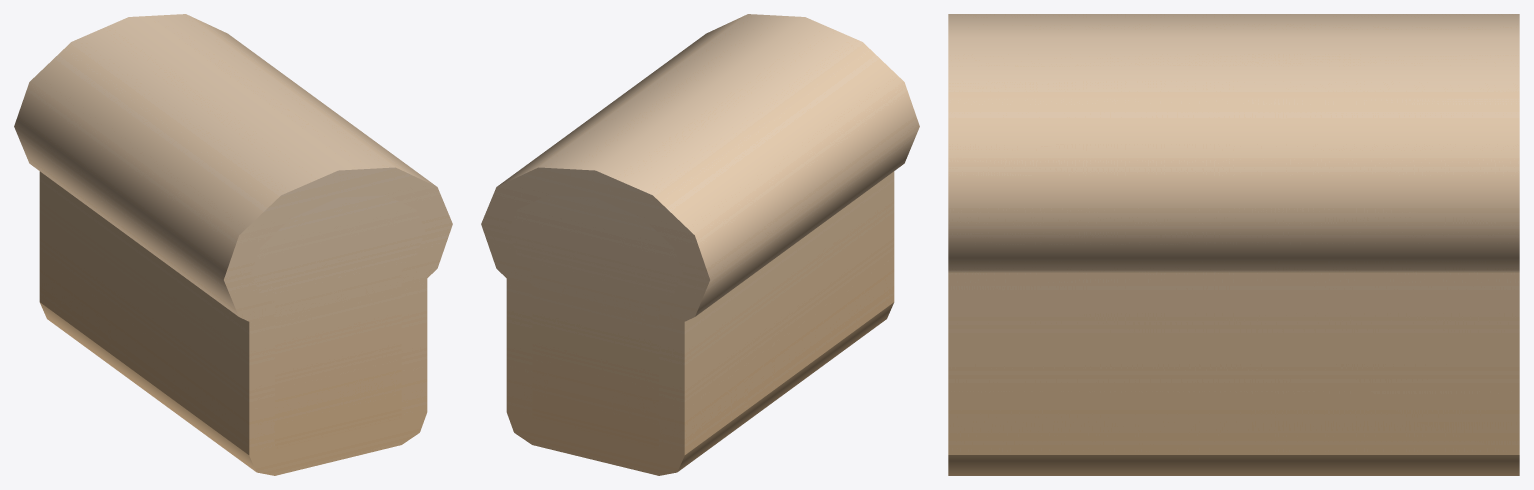
The model's file is Kitchen_BreadBag.glb.
The picture shows the model from 3 angles, left to right: view 1: azimuth 30°, elevation 25°; view 2: azimuth 150°, elevation 25°; view 3: azimuth 270°, elevation 25°; orthographic projection. The views are drawn at different scales.
Parts seen in each view (by area): view 1: Kitchen_BreadBag; view 2: Kitchen_BreadBag; view 3: Kitchen_BreadBag.
Part boxes in pixels (x1,y1,x2,y2): Kitchen_BreadBag: (14, 14, 452, 475); Kitchen_BreadBag: (481, 14, 919, 475); Kitchen_BreadBag: (948, 14, 1519, 475).
Size of the model in its own units: 0.3659 by 0.4423 by 0.5797.
Materials: 1 (1 with a texture image).
